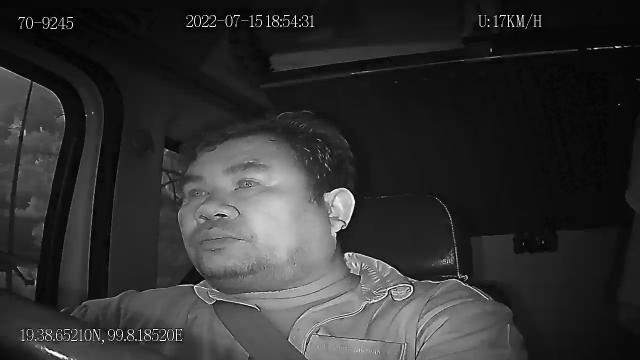SafeDriving: (228, 166, 270, 195), (178, 178, 216, 202)
Seatbelt: (211, 298, 311, 360)
